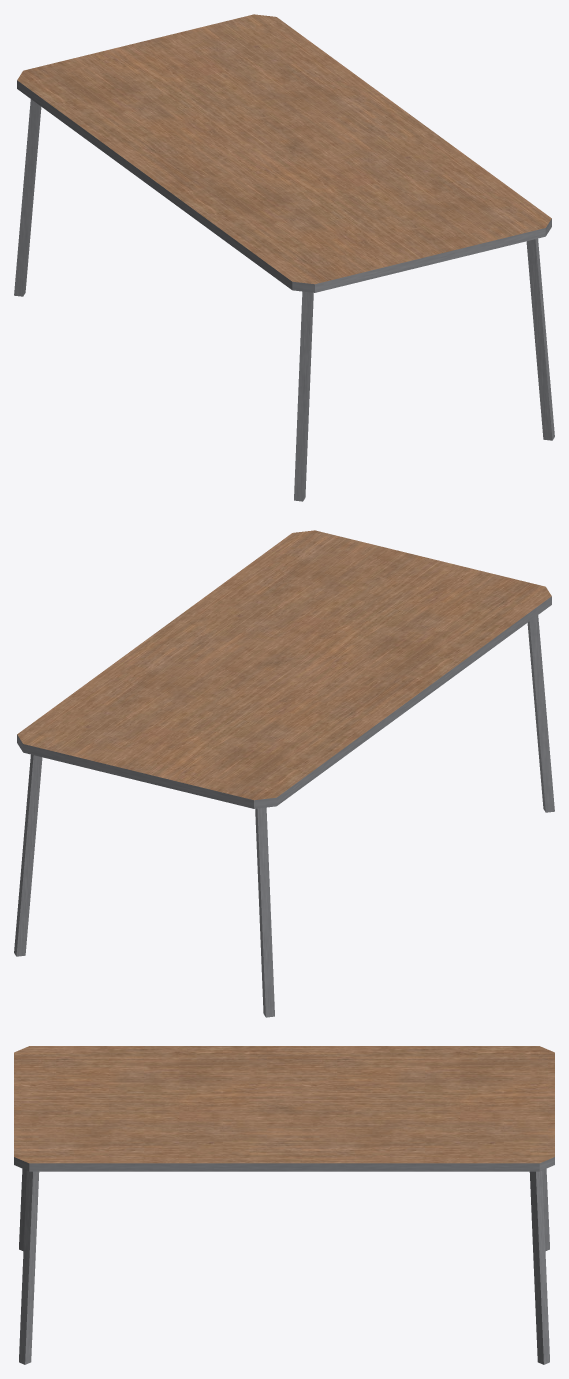
Rendered from Table_01-col.glb.
The picture shows the model from 3 angles, top to bottom: view 1: azimuth 30°, elevation 25°; view 2: azimuth 150°, elevation 25°; view 3: azimuth 270°, elevation 25°; orthographic projection. The views are drawn at different scales.
Parts seen in each view (by area): view 1: Table_01-col; view 2: Table_01-col; view 3: Table_01-col.
Part boxes in pixels (x1,y1,x2,y2): Table_01-col: (14,14,554,501); Table_01-col: (14,530,554,1017); Table_01-col: (14,1046,554,1364).
Size of the model in its own units: 1.11 by 0.8793 by 2.14.
Materials: 2 (2 with a texture image).
